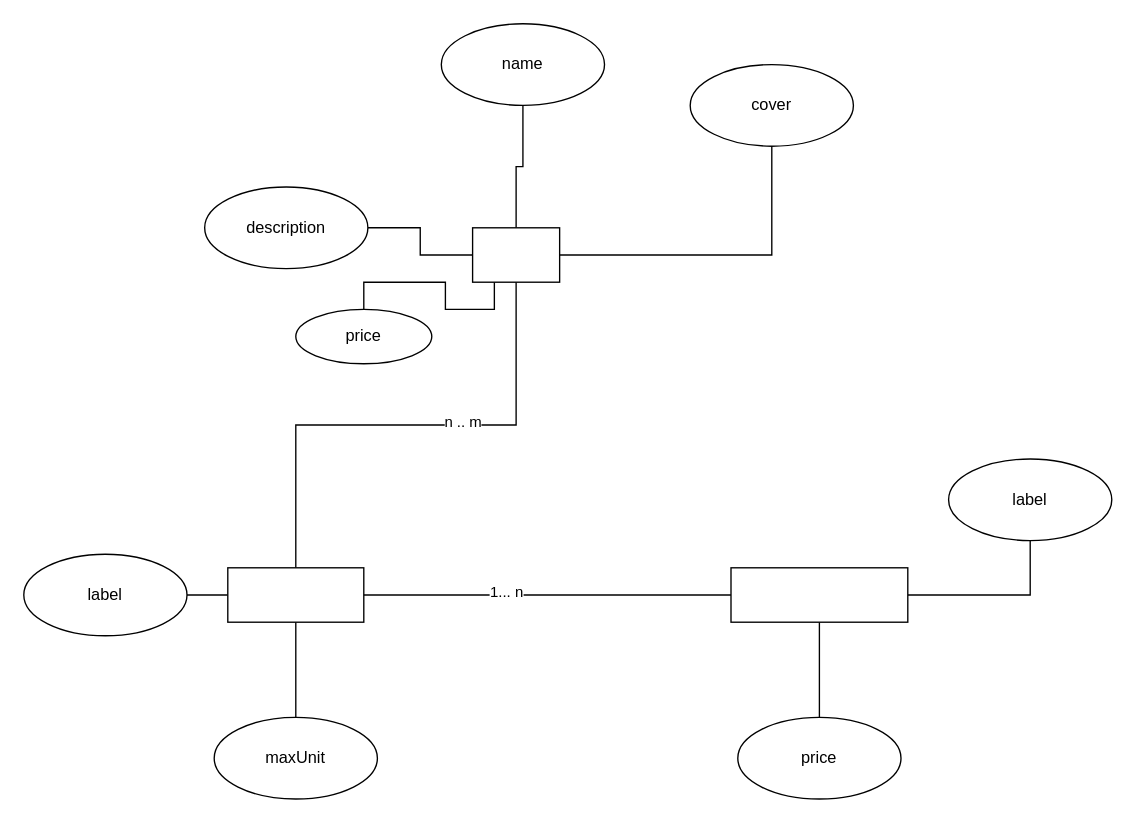
Some shapes in this 1136 by 823 pixel diagram are drawn without their labels. Here are the shapes that lost their labels. From the top down, the centre of each, then its label:
At pixel 515 254: "Goods".
At pixel 295 594: "SpecsCategory".
At pixel 819 594: "Specs".
